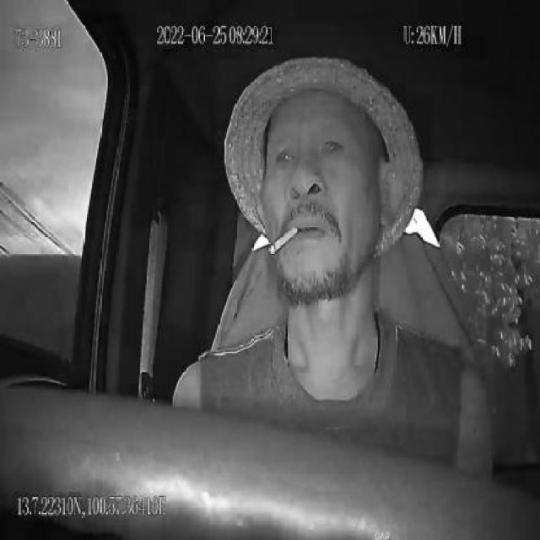smoking: (268, 224, 298, 258)
